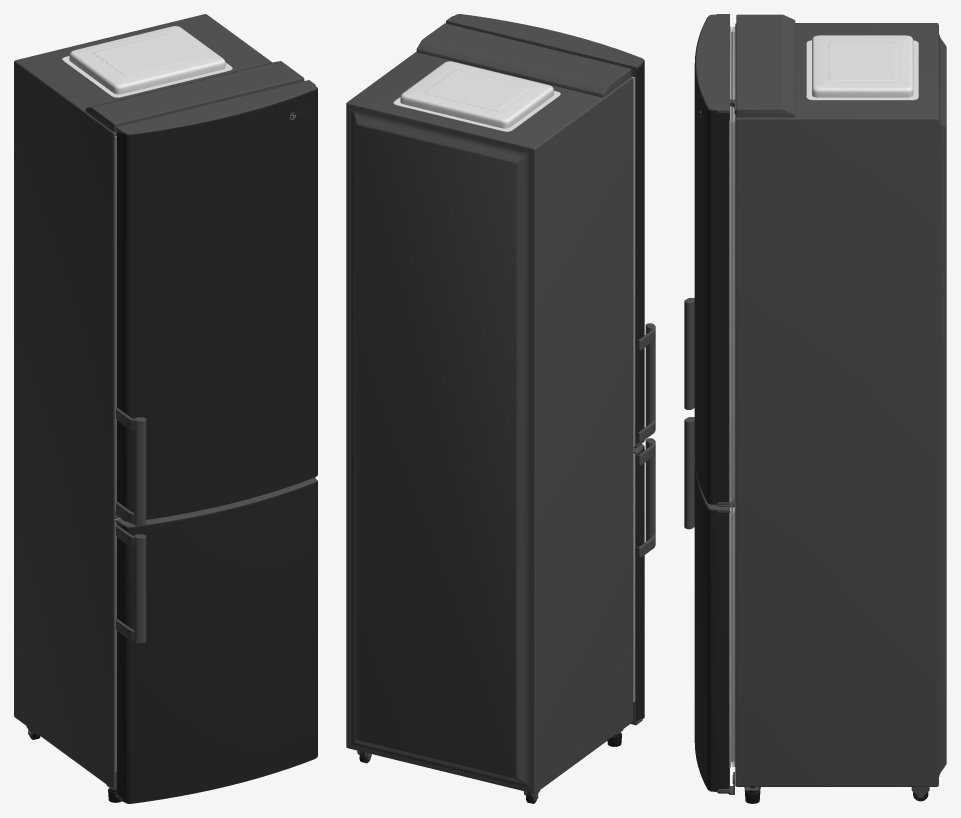
The model's file is refrigerator_small.glb.
The picture shows the model from 3 angles, left to right: view 1: azimuth 30°, elevation 25°; view 2: azimuth 150°, elevation 25°; view 3: azimuth 270°, elevation 25°; orthographic projection. The views are drawn at different scales.
Parts seen in each view (by area): view 1: LG_489_Exterior10; view 2: LG_489_Exterior10; view 3: LG_489_Exterior10.
Boxes of the visible parts, x1,y1,x2,y2 form: LG_489_Exterior10: [14, 14, 317, 803]; LG_489_Exterior10: [346, 14, 655, 803]; LG_489_Exterior10: [684, 14, 946, 803].
Size of the model in its own units: 0.6006 by 2 by 0.6821.
Materials: 4 (2 with a texture image).
